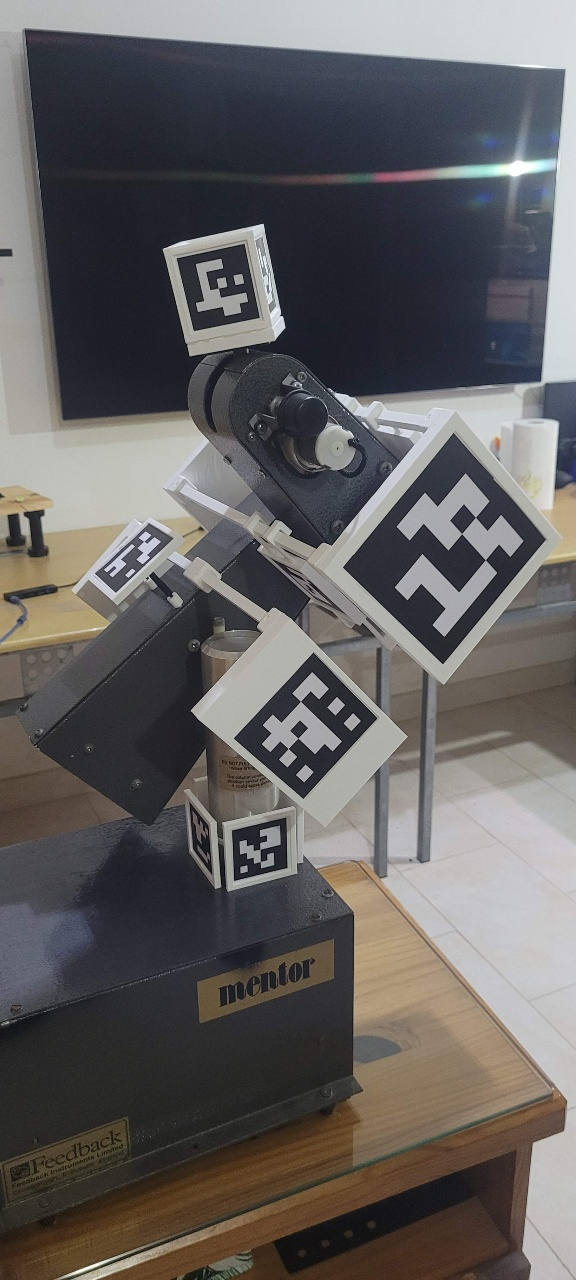Robot: (15, 224, 563, 894)
